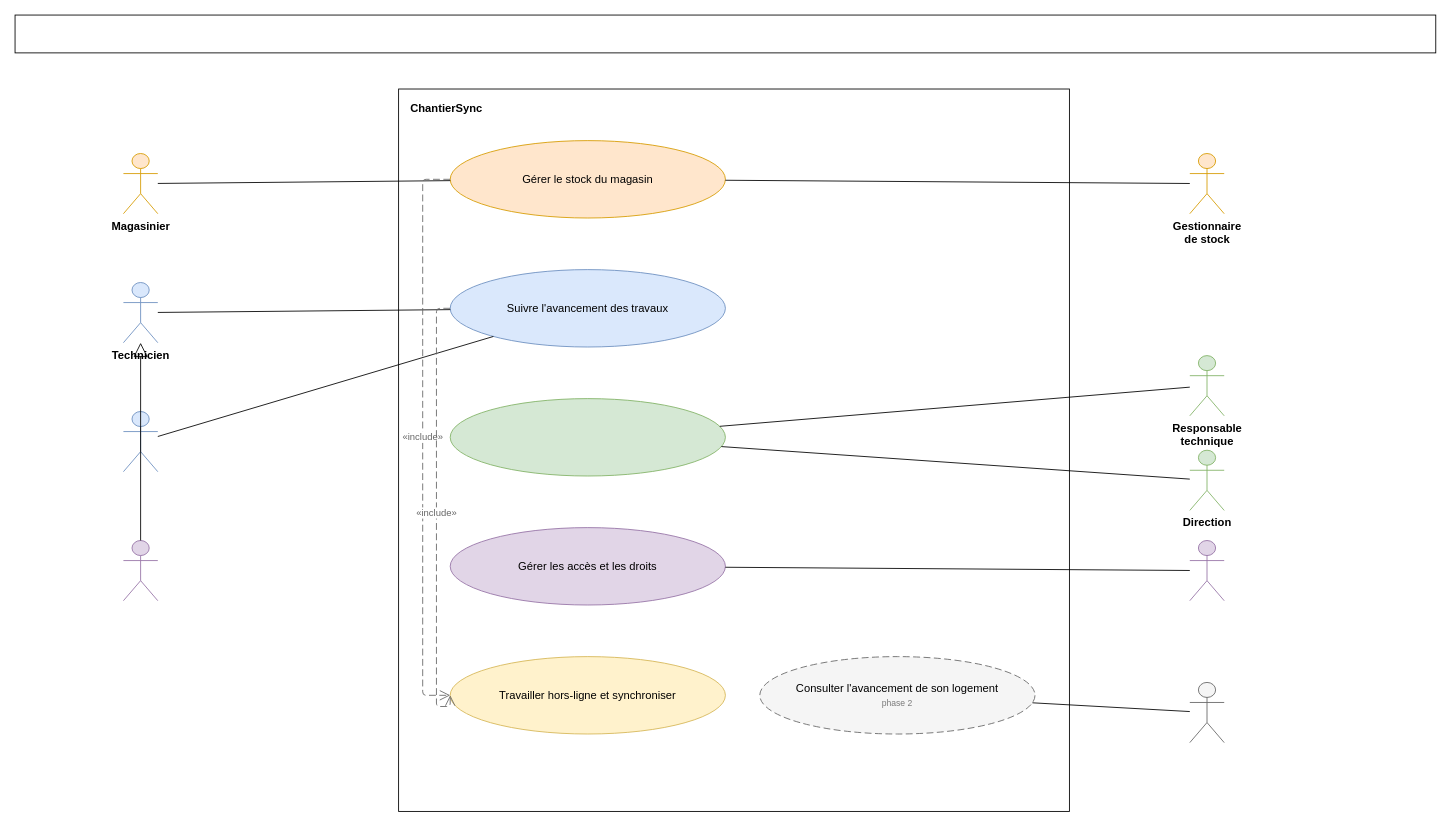
This 1451x826 diagram has some shape labels left out. Here are the shapes that lost their labels. From the top down, the centre of each, then its label:
At [725,33]: "Diagramme de cas d'utilisation — Vue d'ensemble de ChantierSync".
At [140,441]: "Chef de chantier".
At [587,437]: "Piloter et consulter le tableau de bord".
At [140,570]: "Chef d'équipe".
At [1206,570]: "Administrateur".
At [1206,712]: "Acquéreur (phase 2)".
